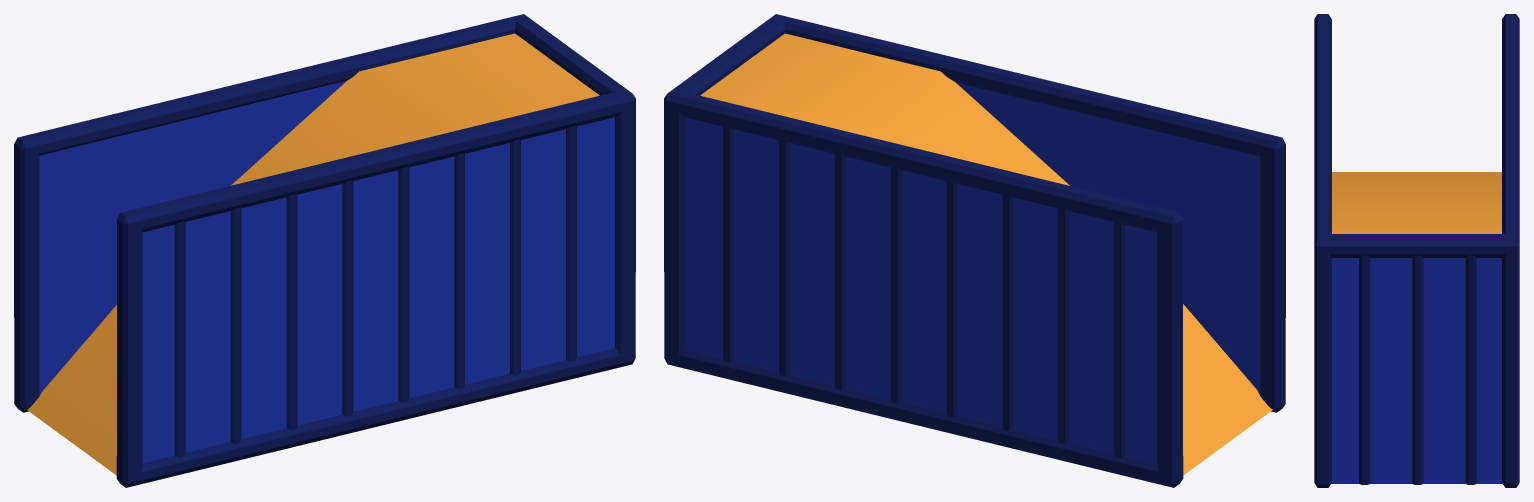
File: Conteiner Rampa.FBX
The picture shows the model from 3 angles, left to right: view 1: azimuth 30°, elevation 25°; view 2: azimuth 150°, elevation 25°; view 3: azimuth 270°, elevation 25°; orthographic projection. The views are drawn at different scales.
Visible parts, largest first — view 1: Box011, Object024, Object023, Object018; view 2: Box011, Object024, Object023, Object018; view 3: Box011, Object024, Object023, Object019.
Boxes of the visible parts, x1,y1,x2,y2 form: Box011: (39, 80, 614, 463); Object024: (14, 14, 635, 487); Object023: (27, 33, 599, 475); Object018: (174, 126, 576, 457); Box011: (685, 82, 1260, 463); Object024: (664, 14, 1285, 487); Object023: (700, 33, 1272, 475); Object018: (723, 125, 1124, 457); Box011: (1331, 258, 1502, 483); Object024: (1314, 14, 1519, 487); Object023: (1332, 172, 1501, 233); Object019: (1359, 255, 1476, 484).
Bounding box in the file's own units: 154 × 77.76 × 58.46.
